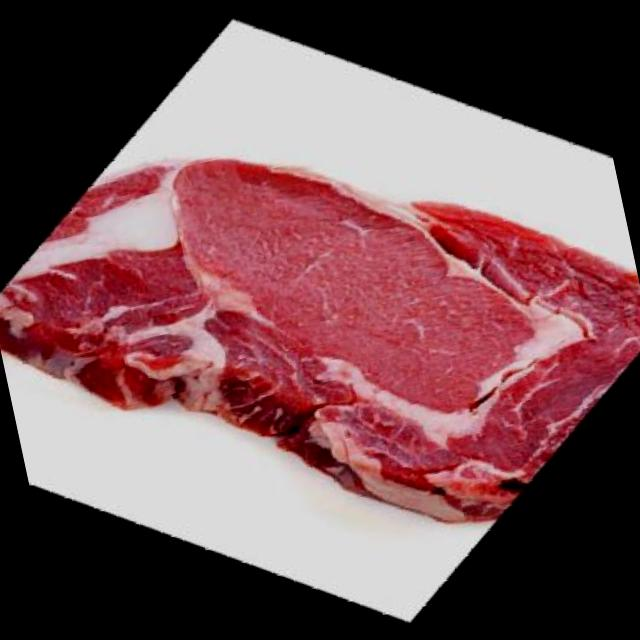beef: (0, 4, 640, 630)
